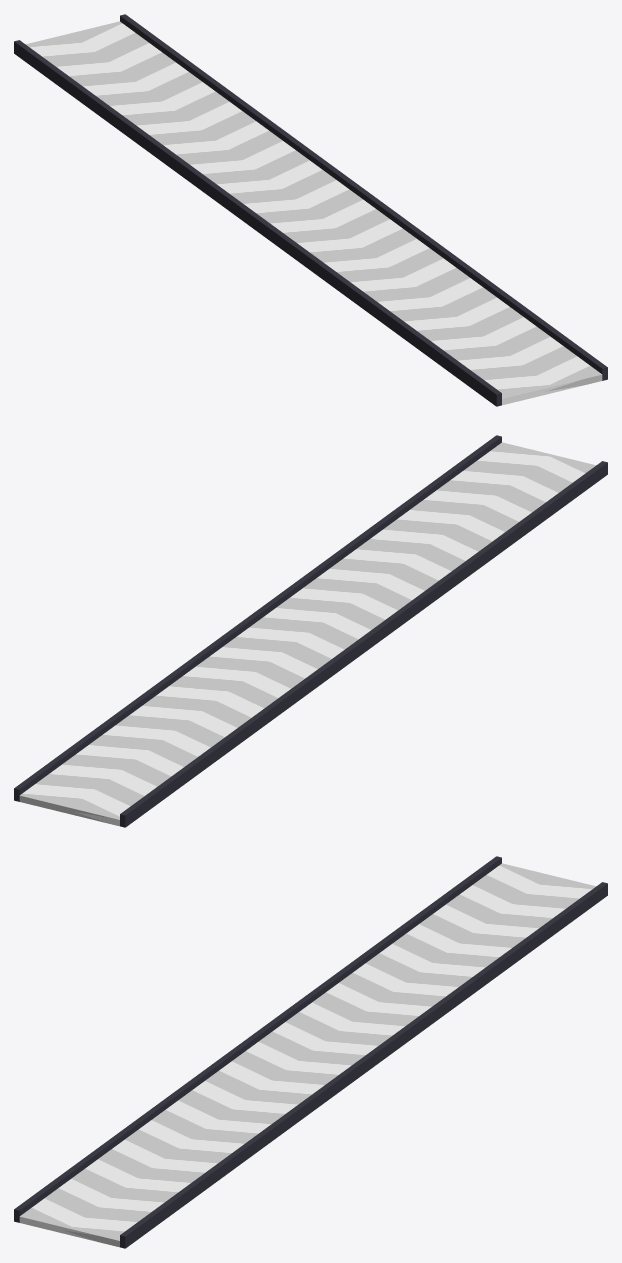
File: road.fbx
3 views of the same model, one above another, from view 1: azimuth 30°, elevation 25°; view 2: azimuth 150°, elevation 25°; view 3: azimuth 330°, elevation 25° (orthographic).
Parts seen in each view (by area): view 1: Cube.005; view 2: Cube.005; view 3: Cube.005.
Part boxes in pixels (bbox=[...]): Cube.005: bbox=[14, 14, 607, 406]; Cube.005: bbox=[14, 435, 607, 827]; Cube.005: bbox=[14, 856, 607, 1248].
Size of the model in its own units: 4 by 0.4161 by 30.
